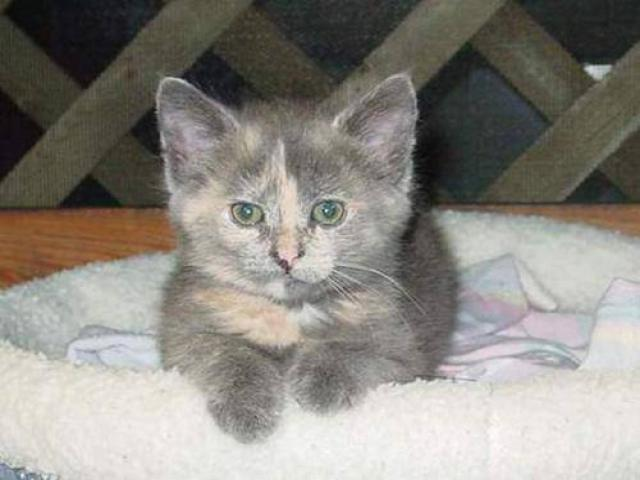cat: (142, 57, 454, 440)
